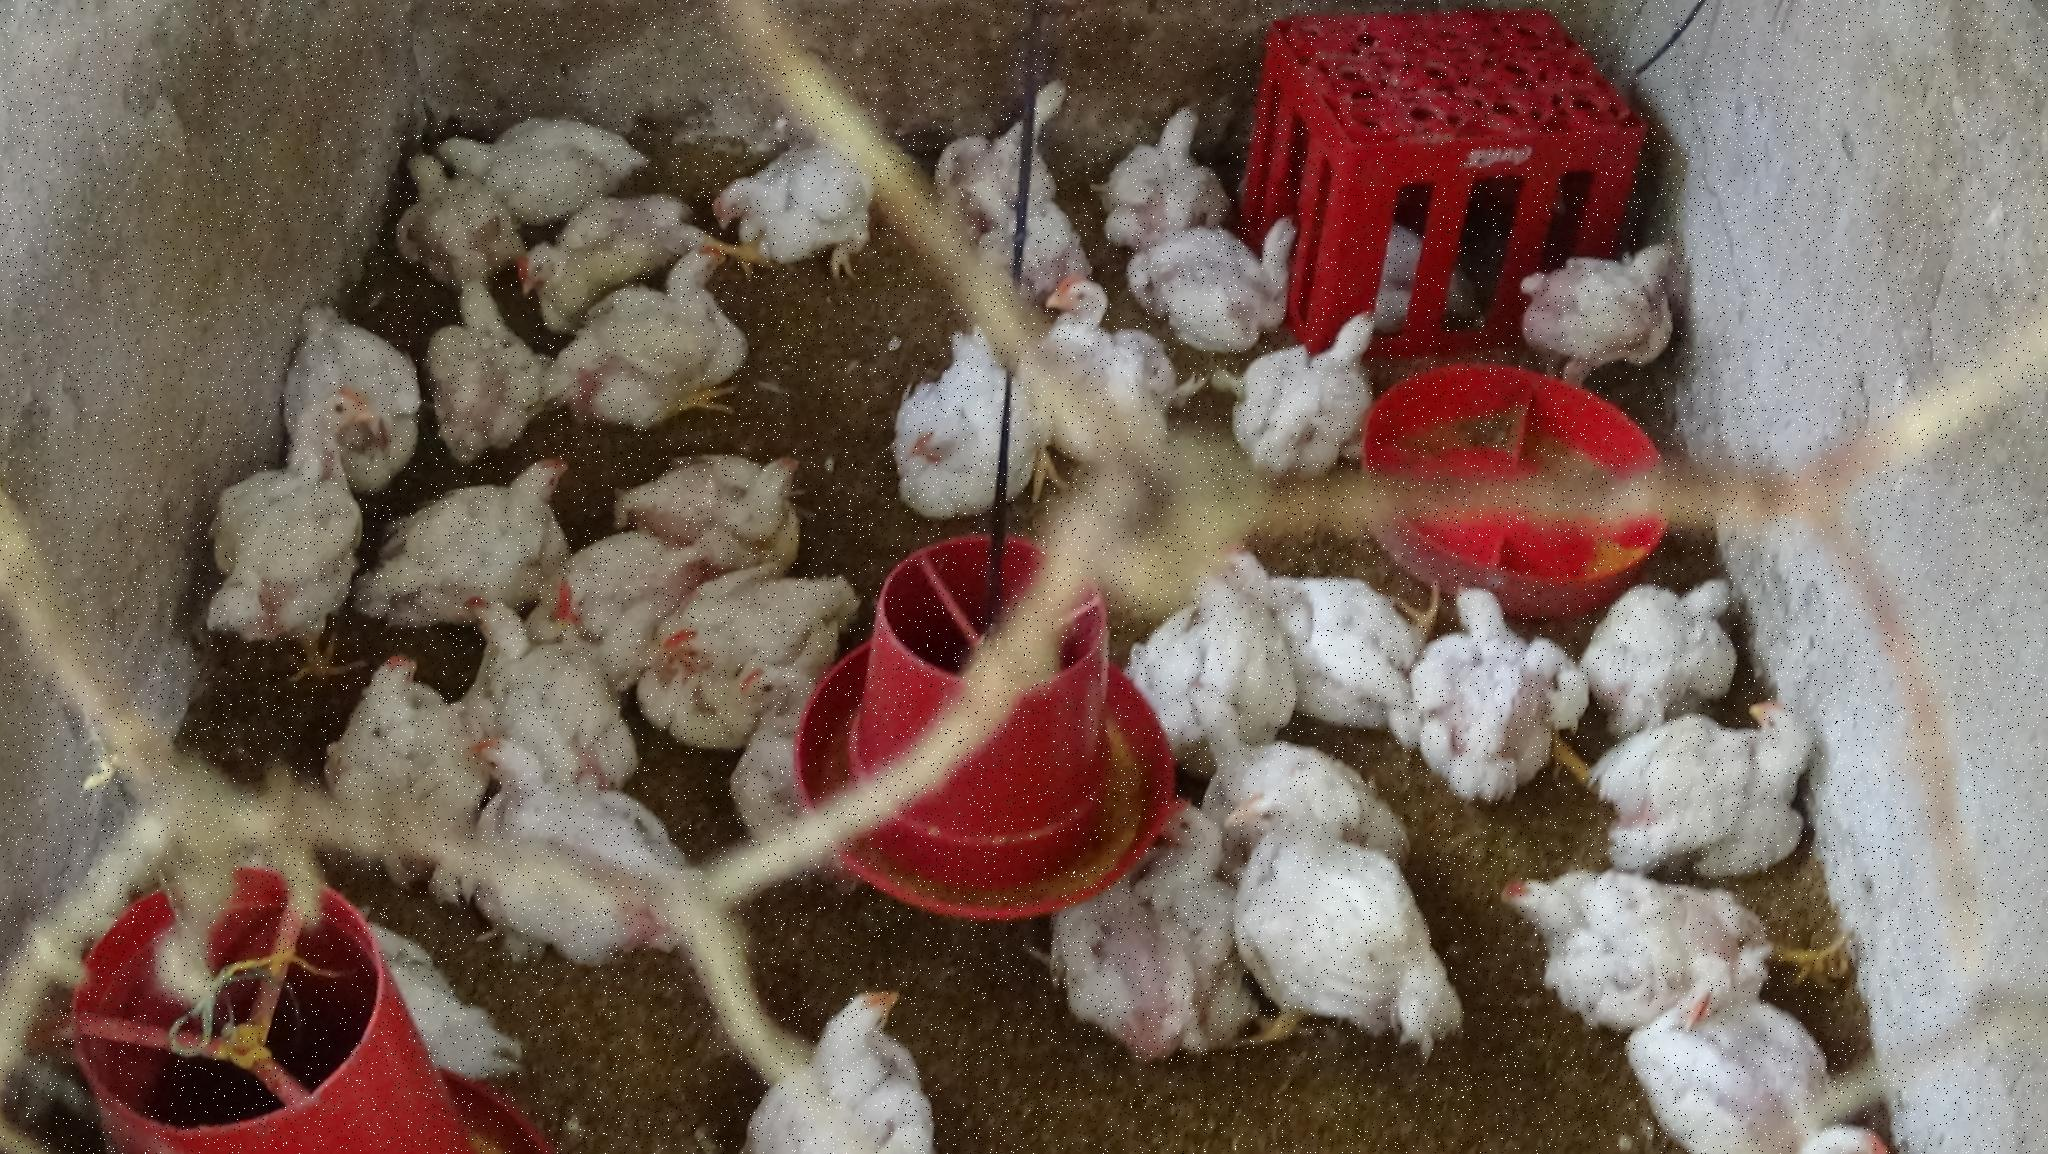Pollos: (1215, 792, 1468, 1061), (1491, 844, 1775, 1026), (204, 393, 378, 676), (726, 972, 959, 1154), (883, 319, 1059, 524), (1421, 573, 1575, 797), (1612, 697, 1807, 868), (570, 245, 743, 433), (1644, 1002, 1858, 1154), (1218, 315, 1397, 491), (1495, 236, 1687, 397), (1054, 863, 1189, 1065), (326, 653, 461, 849), (706, 114, 871, 272), (1589, 560, 1755, 716), (442, 100, 653, 215), (1151, 215, 1326, 353), (475, 730, 620, 896), (945, 58, 1090, 220), (276, 305, 425, 455), (415, 449, 577, 581), (1030, 277, 1173, 424), (1099, 87, 1227, 248), (422, 283, 551, 438), (664, 448, 821, 557), (398, 152, 520, 276), (1158, 671, 1280, 790), (505, 211, 622, 321), (446, 584, 563, 691), (724, 666, 826, 774), (655, 609, 734, 726), (1146, 780, 1222, 901), (1220, 516, 1312, 615), (543, 564, 647, 642)
